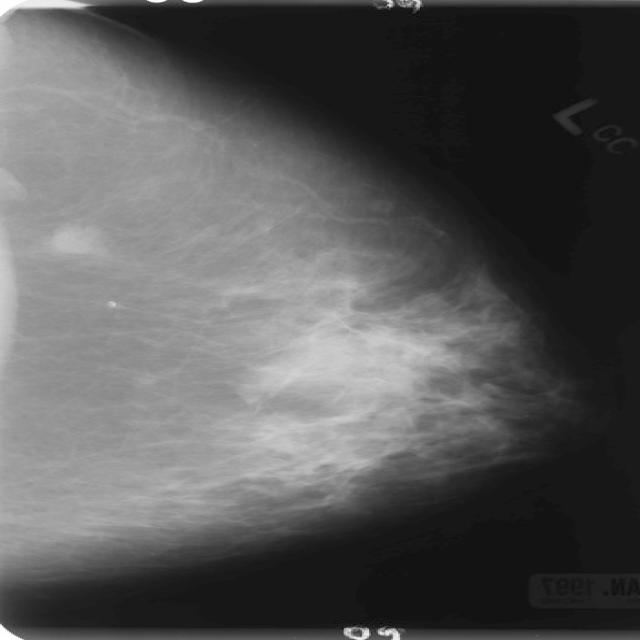tumour: (48, 223, 108, 254)
